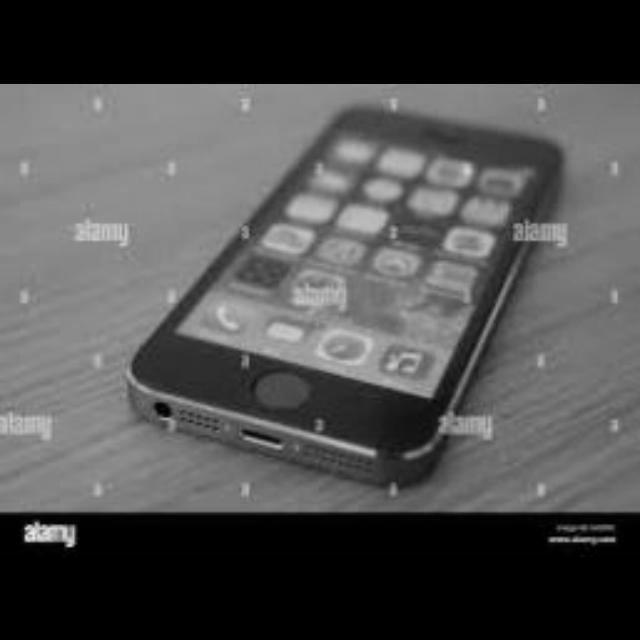fake: (118, 89, 575, 488)
